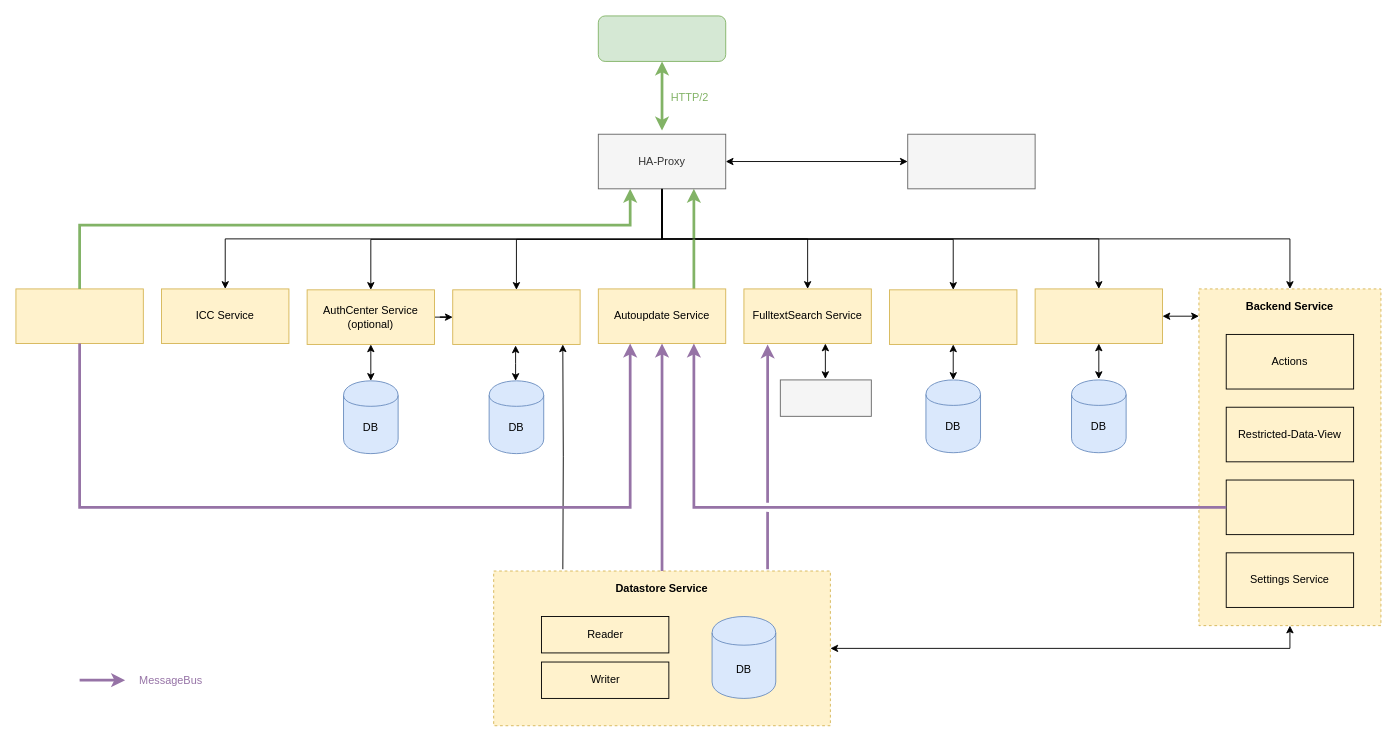
Some shapes in this 1397 by 742 pixel diagram are drawn without their labels. The shapes that lost their labels are listed below. From the top down, each one's box as (x1, y1, x2, y2) in pixels, then its label:
(597, 15, 726, 61): Client
(907, 133, 1035, 189): Logstash Kibana Elasticsearch
(15, 288, 143, 344): Projektor Service
(452, 289, 580, 344): Auth Service
(889, 289, 1017, 344): Notification Service (optional)
(1034, 288, 1163, 344): Mediafile Service
(779, 379, 871, 416): Elasticsearch
(1225, 479, 1354, 535): Permission Service
